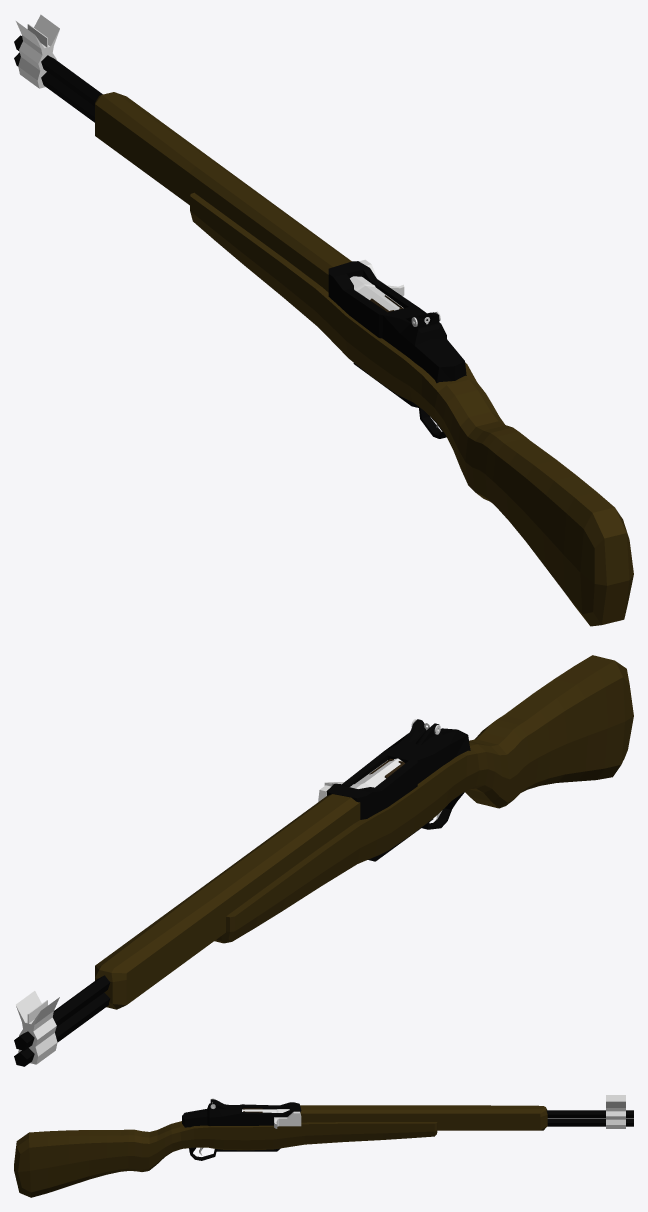
Rendered from m1_garand_violence.glb.
The picture shows the model from 3 angles, top to bottom: view 1: azimuth 30°, elevation 25°; view 2: azimuth 150°, elevation 25°; view 3: azimuth 270°, elevation 25°; orthographic projection. The views are drawn at different scales.
Visible parts, largest first — view 1: m1base, m1bolt; view 2: m1base, m1bolt; view 3: m1base, m1bolt.
Part boxes in pixels (x1=…): m1base: x1=14, y1=14, x2=633, y2=626; m1bolt: x1=350, y1=259, x2=404, y2=310; m1base: x1=14, y1=655, x2=633, y2=1066; m1bolt: x1=318, y1=758, x2=402, y2=801; m1base: x1=14, y1=1095, x2=633, y2=1197; m1bolt: x1=242, y1=1109, x2=301, y2=1128.
Size of the model in its own units: 0.0688 by 0.1975 by 1.15.
